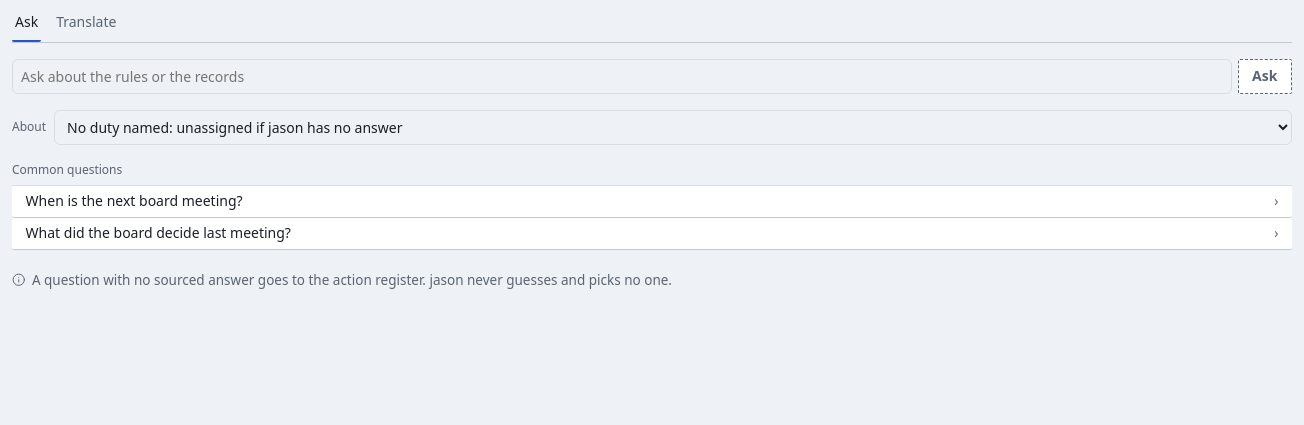
Test case: AskPanel › a question about a named duty goes to the office that owns it
Type "Is the umbrella enough?" into the field named "Question". click: x=622, y=76
box: [12,59,1232,94]
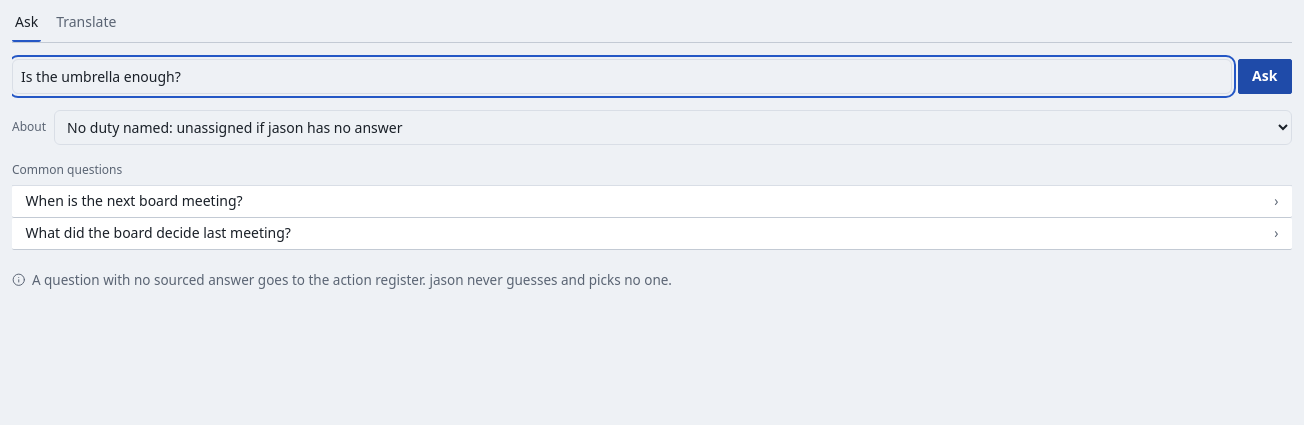
Select "Insurance renewals · the treasurer (proposed)" in the dropdown labelled "About". click: x=673, y=127
box: [54,110,1292,145]
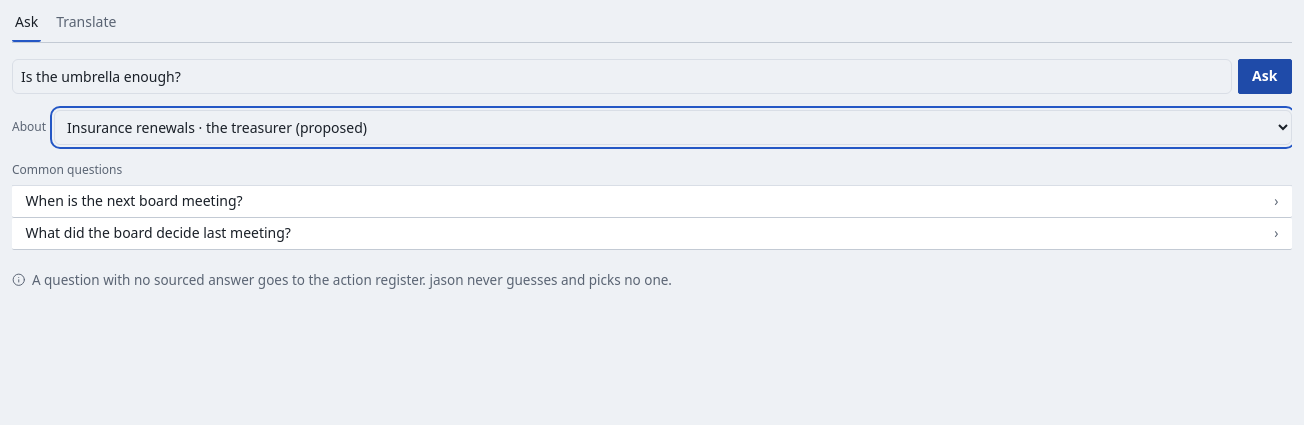
Click the button "Ask". click: x=1265, y=76
box: [1238,59,1292,94]
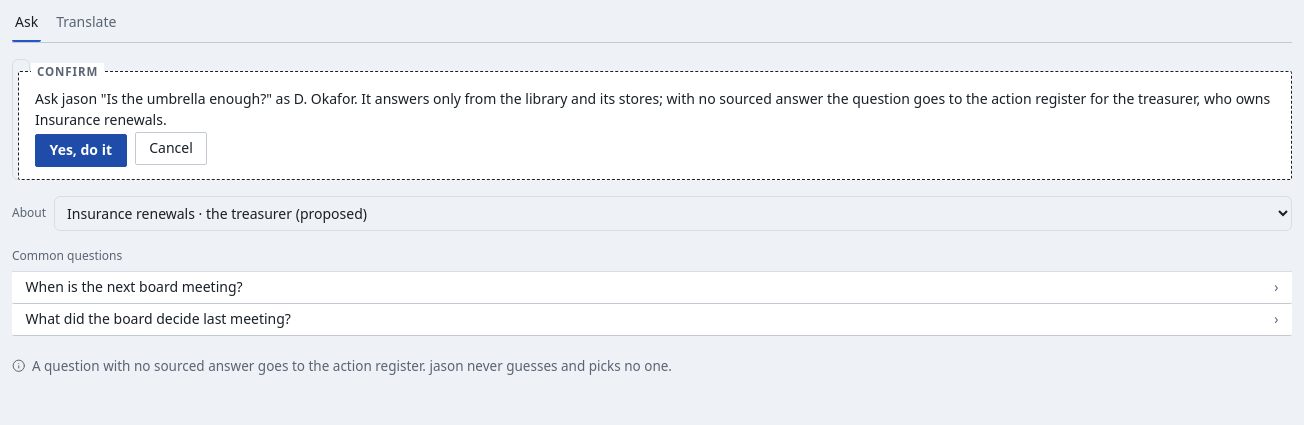
Expected: the element "Confirm" shows "for the treasurer, who owns Insurance renewals", [35,89,1270,129]
Click the button "Yes, do it". click: x=81, y=150
box: [35,134,127,167]
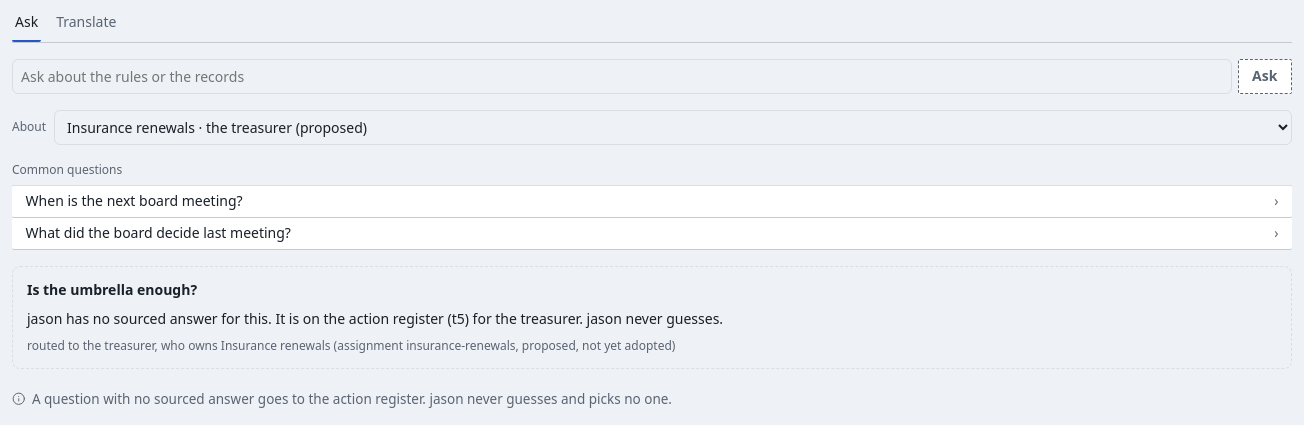
Expected: the element "no sourced answer" shows "on the action register (t5) for the treasurer", [27,309,583,328]
Expected: the element "no sourced answer" shows "proposed, not yet adopted", [27,337,675,354]
